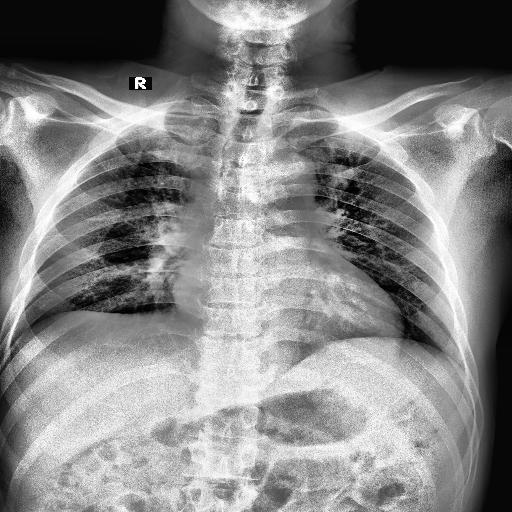0- Aortic enlargement: (244, 152, 318, 213), (256, 152, 316, 210)
3- Cardiomegaly: (175, 254, 409, 352), (171, 268, 405, 346), (170, 279, 406, 348)
8- Nodule-Mass: (326, 164, 353, 190)
